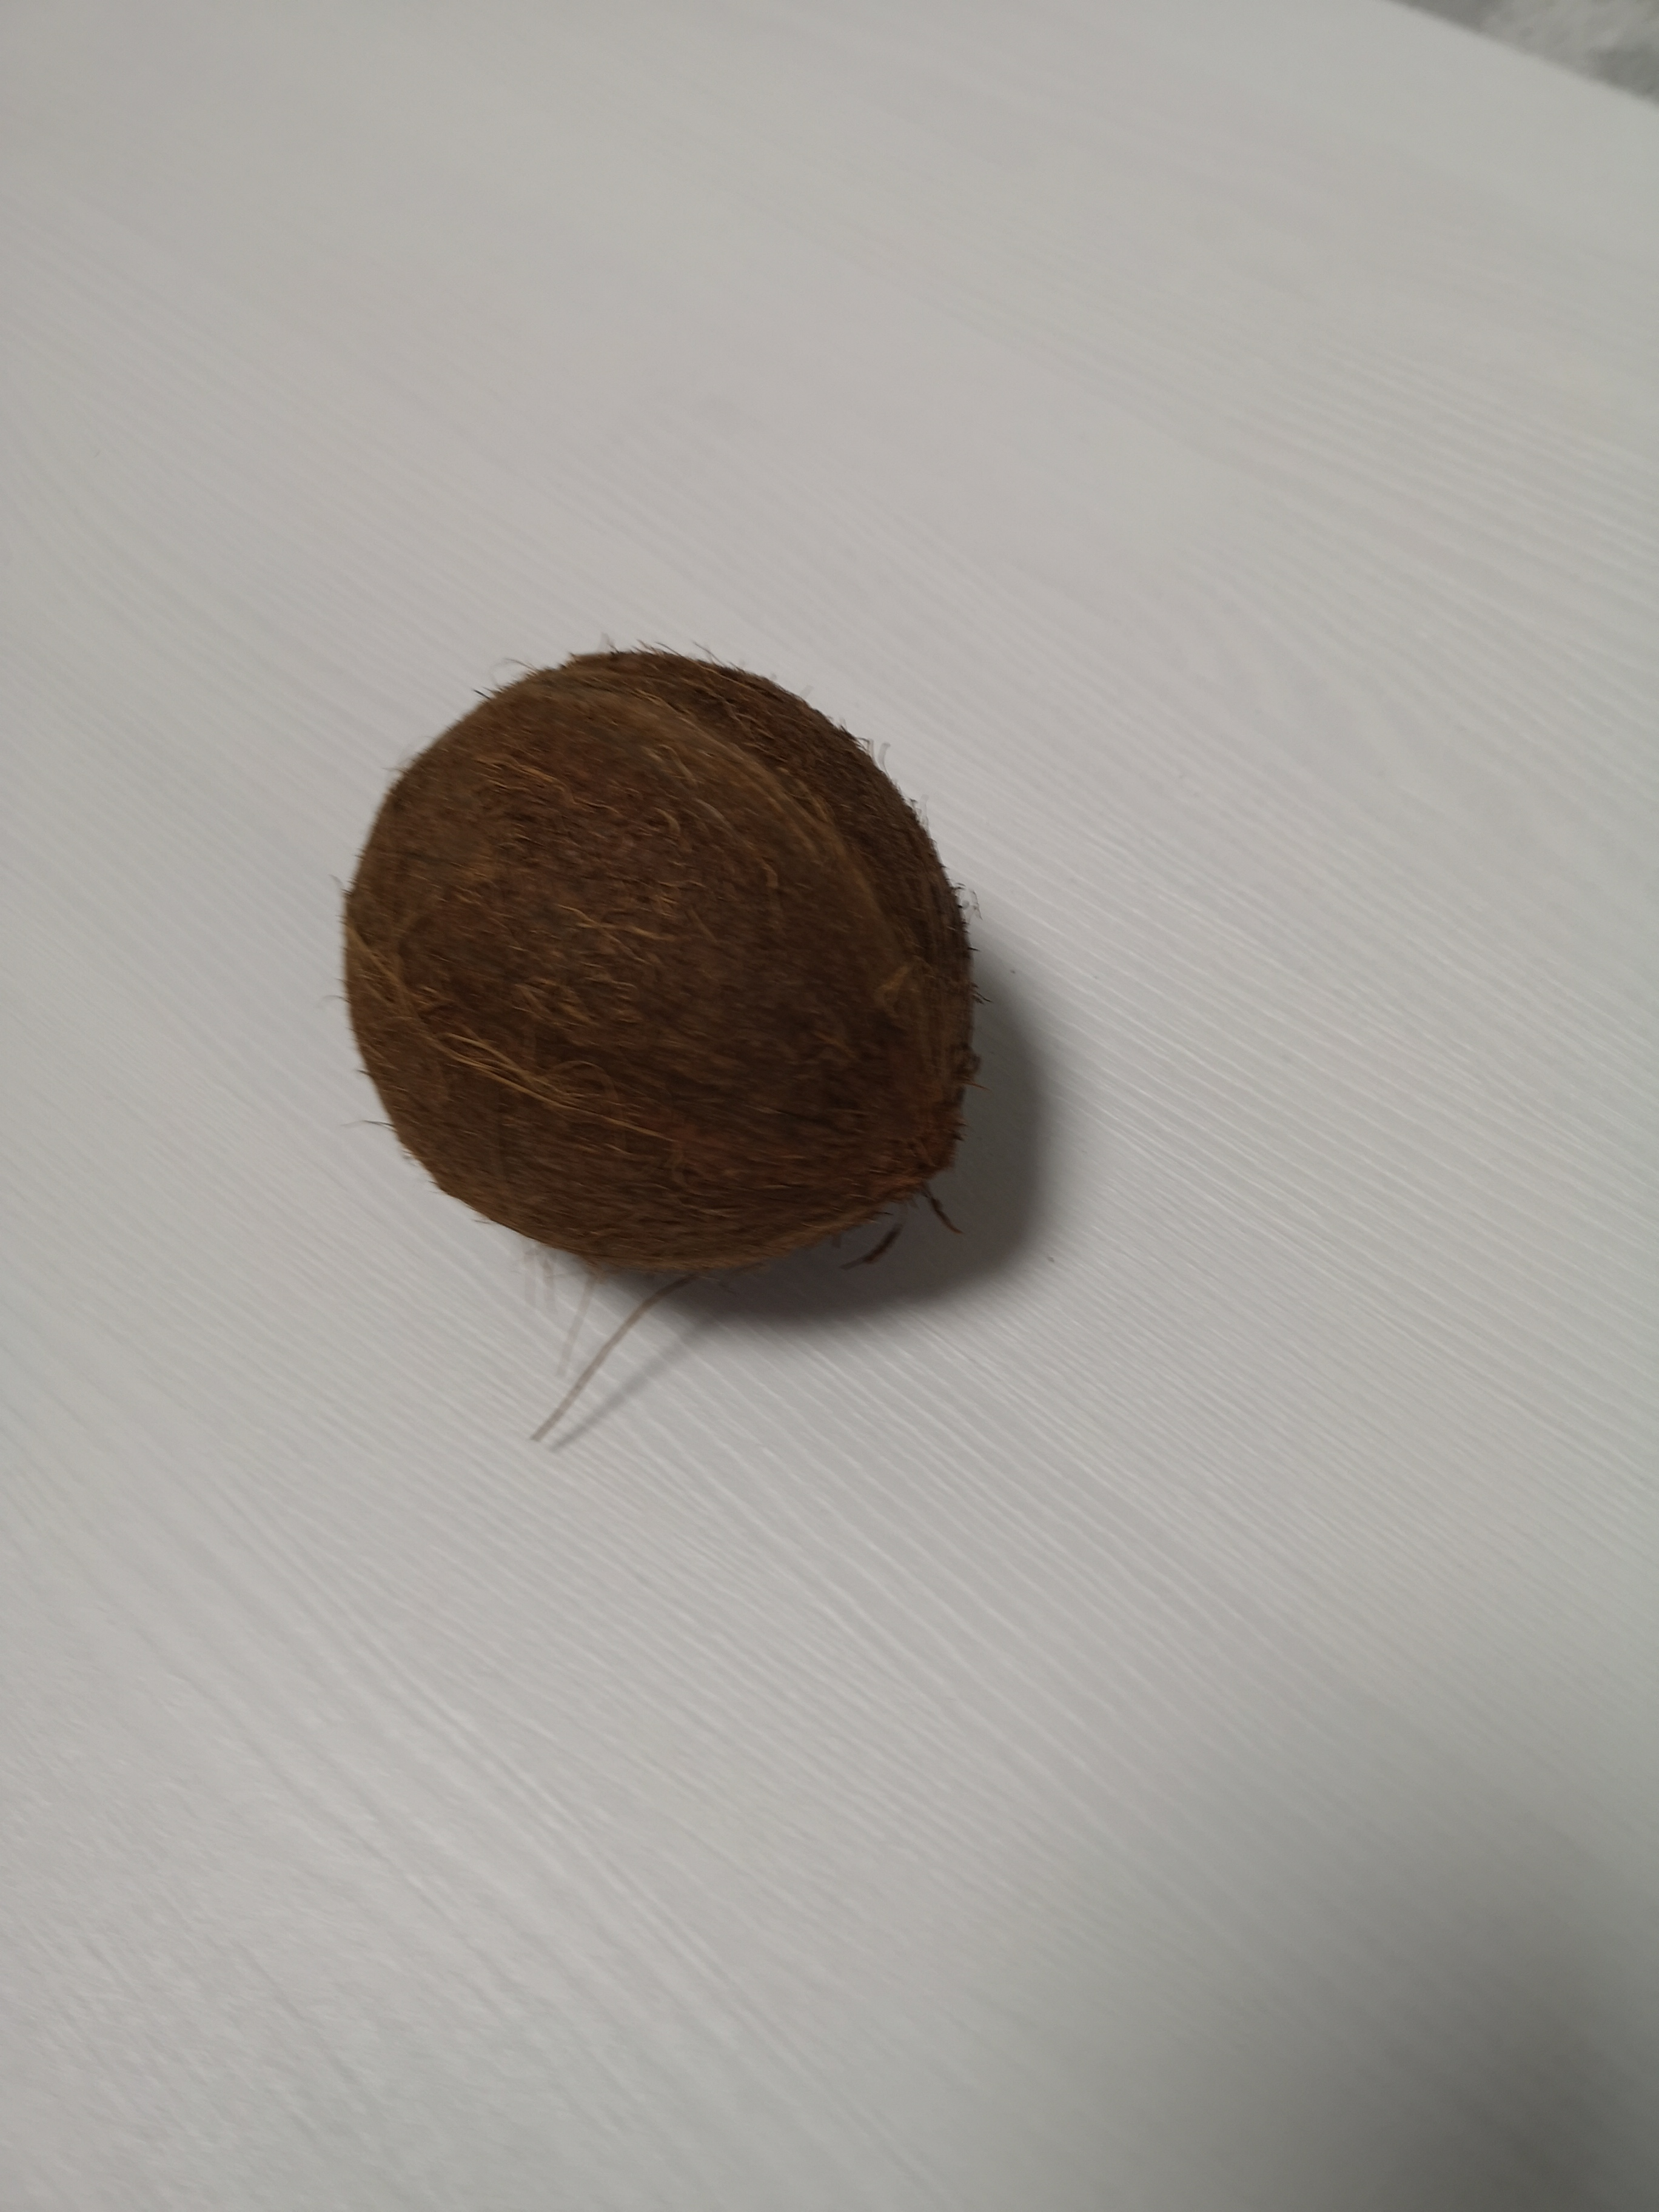coconut: (338, 629, 992, 1285)
